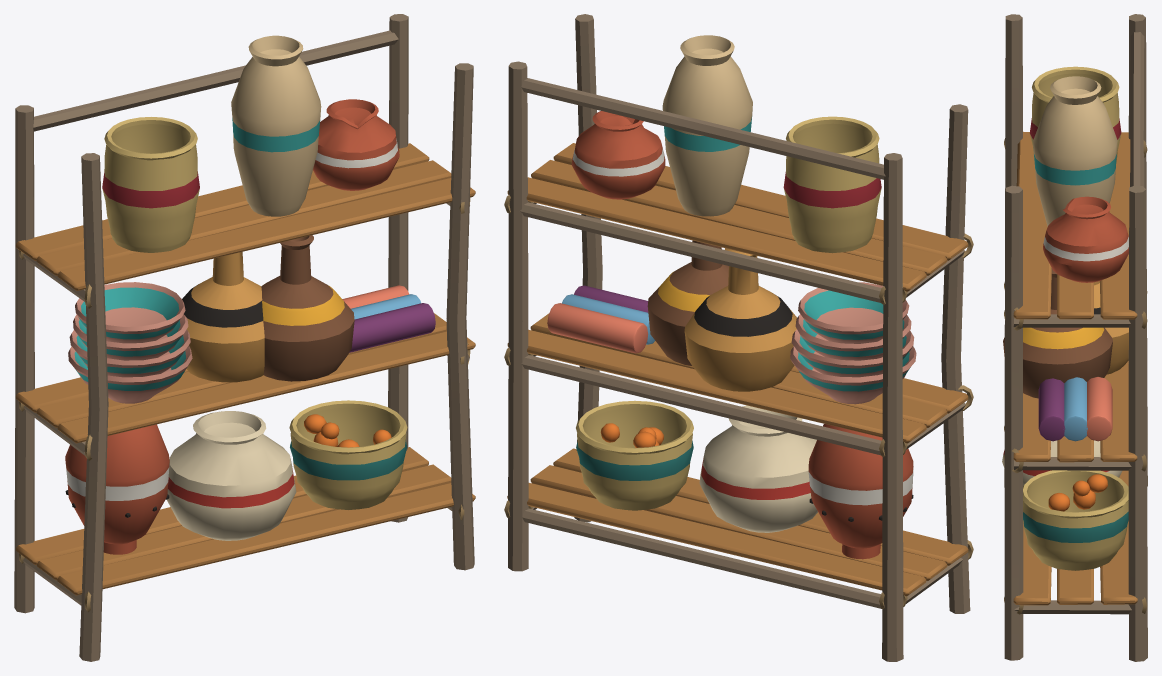
Rendered from deco_shelving_rack_tall.fbx.
3 renders of one model, left to right at view 1: azimuth 30°, elevation 25°; view 2: azimuth 150°, elevation 25°; view 3: azimuth 270°, elevation 25°, orthographic. The views are drawn at different scales.
Parts seen in each view (by area): view 1: ShelvingRack_Tall_Shelves, ShelvingRack_Tall_Frame, ShelvingRack_Tall_GoodsMid, ShelvingRack_Tall_GoodsLow, ShelvingRack_Tall_GoodsTop; view 2: ShelvingRack_Tall_Frame, ShelvingRack_Tall_Shelves, ShelvingRack_Tall_GoodsMid, ShelvingRack_Tall_GoodsLow, ShelvingRack_Tall_GoodsTop; view 3: ShelvingRack_Tall_Frame, ShelvingRack_Tall_Shelves, ShelvingRack_Tall_GoodsTop, ShelvingRack_Tall_GoodsMid, ShelvingRack_Tall_GoodsLow.
Boxes of the visible parts, bbox=[...] form: ShelvingRack_Tall_Shelves: bbox=[15, 143, 475, 612]; ShelvingRack_Tall_Frame: bbox=[14, 14, 474, 661]; ShelvingRack_Tall_GoodsMid: bbox=[68, 235, 435, 403]; ShelvingRack_Tall_GoodsLow: bbox=[65, 400, 407, 554]; ShelvingRack_Tall_GoodsTop: bbox=[102, 35, 399, 252]; ShelvingRack_Tall_Frame: bbox=[508, 14, 970, 661]; ShelvingRack_Tall_Shelves: bbox=[504, 143, 973, 609]; ShelvingRack_Tall_GoodsMid: bbox=[547, 240, 916, 404]; ShelvingRack_Tall_GoodsLow: bbox=[576, 400, 913, 559]; ShelvingRack_Tall_GoodsTop: bbox=[571, 35, 881, 253]; ShelvingRack_Tall_Frame: bbox=[1004, 14, 1147, 661]; ShelvingRack_Tall_Shelves: bbox=[1004, 131, 1147, 614]; ShelvingRack_Tall_GoodsTop: bbox=[1030, 66, 1128, 282]; ShelvingRack_Tall_GoodsMid: bbox=[1003, 269, 1128, 441]; ShelvingRack_Tall_GoodsLow: bbox=[1002, 440, 1128, 570].
Bounding box in the file's own units: 192 × 246 × 64.89.
